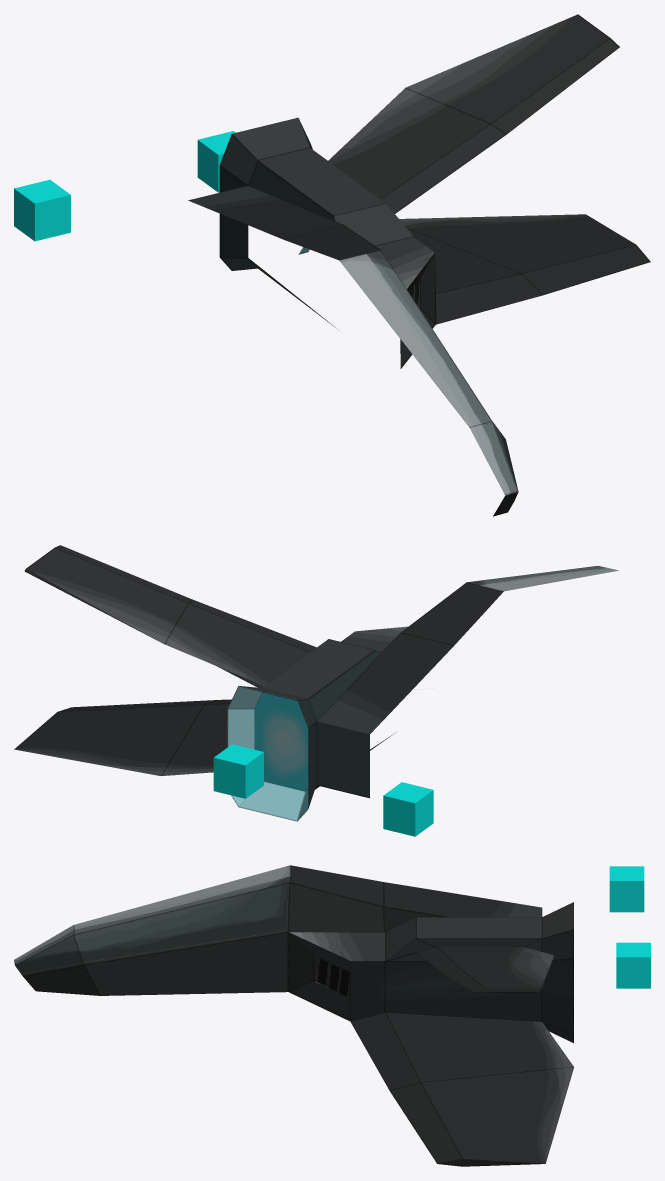
Rendered from DevShipJets.glb.
3 renders of one model, top to bottom at view 1: azimuth 30°, elevation 25°; view 2: azimuth 150°, elevation 25°; view 3: azimuth 270°, elevation 25°, orthographic. The views are drawn at different scales.
Visible parts, largest first — view 1: Cube, Cube.002; view 2: Cube, Cube.002; view 3: Cube, Cube.002.
Part boxes in pixels (left/top/right/bottom): Cube: left=188, top=14, right=650, bottom=516; Cube.002: left=14, top=131, right=235, bottom=241; Cube: left=14, top=545, right=618, bottom=821; Cube.002: left=213, top=744, right=433, bottom=836; Cube: left=14, top=865, right=573, bottom=1166; Cube.002: left=609, top=866, right=650, bottom=988.
Bounding box in the file's own units: 3.89 × 1.51 × 5.02.
Materials: 3 (1 with a texture image).
